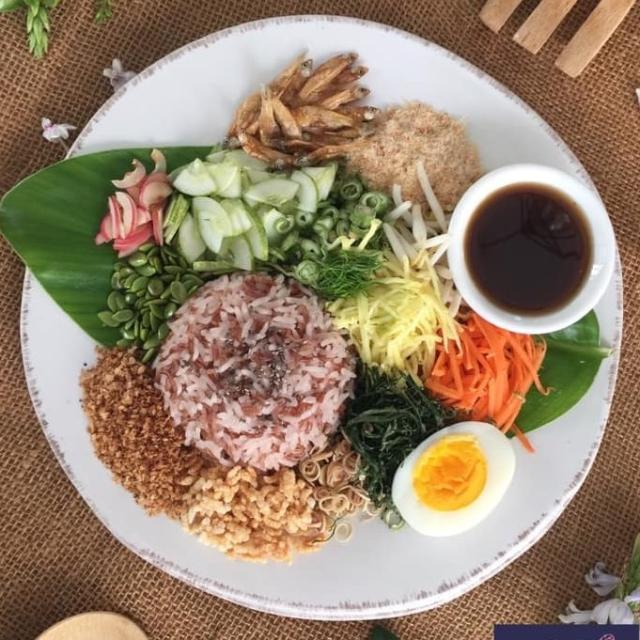carb: (160, 285, 370, 477)
rice salad: (41, 42, 582, 573)
vegetable: (362, 241, 510, 435), (197, 146, 379, 293)
